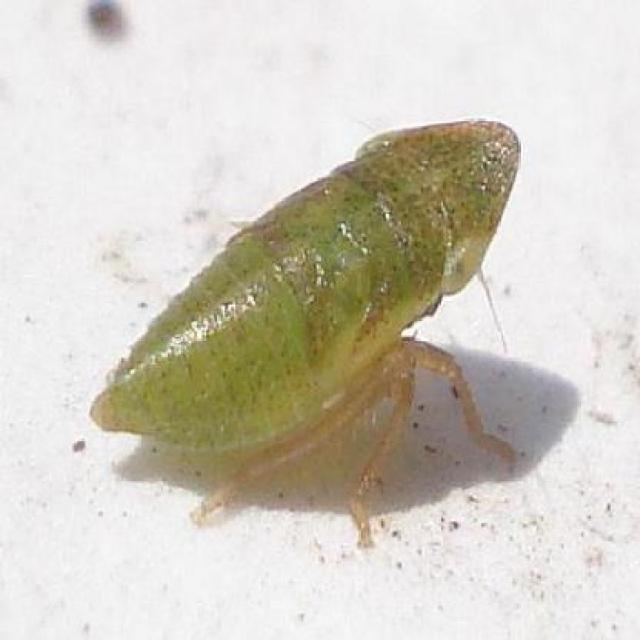green-leafhopper: (90, 120, 528, 526)
